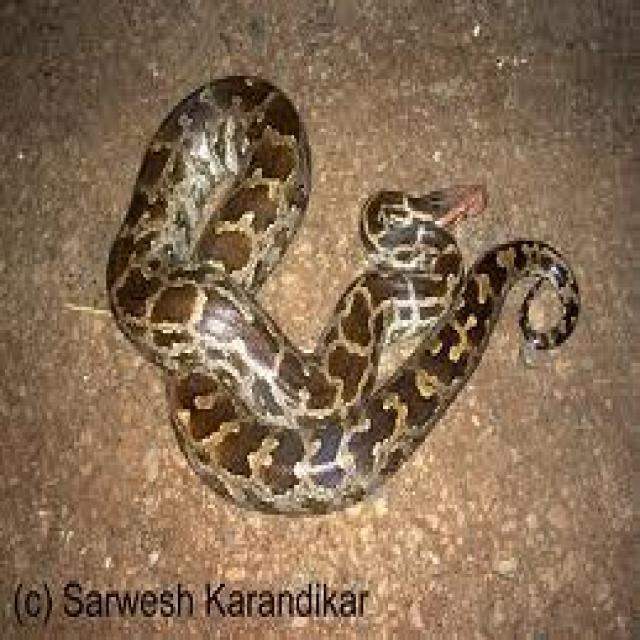Snake: (104, 69, 580, 518)
